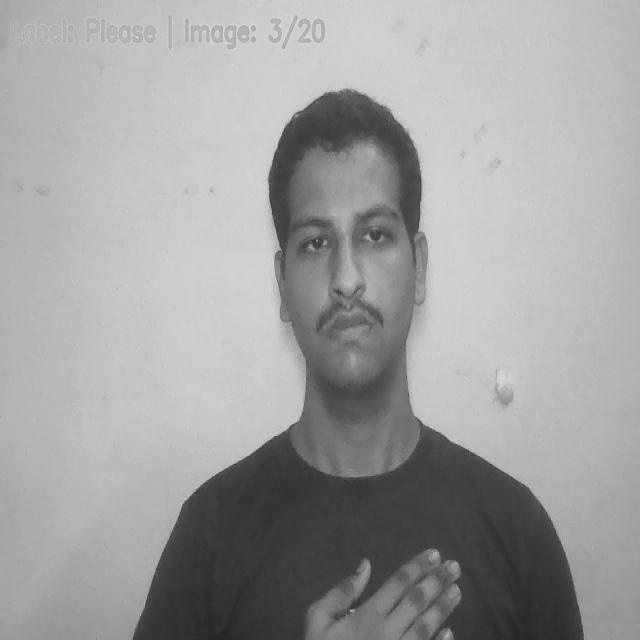Please: (297, 524, 469, 640)
